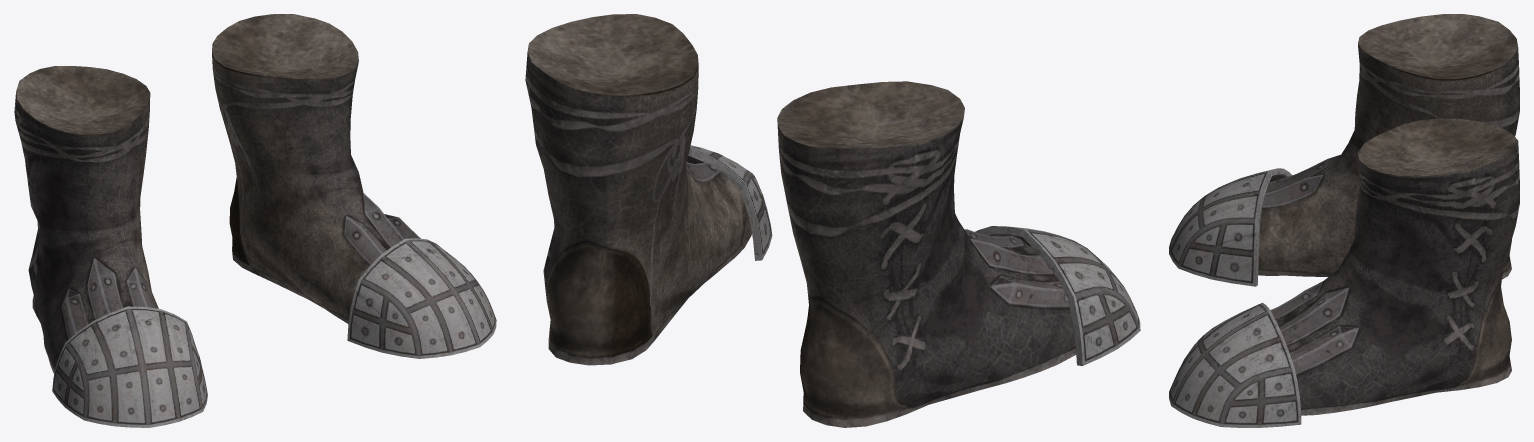
The model's file is sk_dwarf_iron_boots_med_b1.fbx.
The picture shows the model from 3 angles, left to right: view 1: azimuth 30°, elevation 25°; view 2: azimuth 150°, elevation 25°; view 3: azimuth 270°, elevation 25°; orthographic projection. The views are drawn at different scales.
Visible parts, largest first — view 1: sk_dwarf_iron_boots_med_b1; view 2: sk_dwarf_iron_boots_med_b1; view 3: sk_dwarf_iron_boots_med_b1.
Part boxes in pixels (x1,y1,x2,y2): sk_dwarf_iron_boots_med_b1: (14, 14, 496, 427); sk_dwarf_iron_boots_med_b1: (525, 14, 1140, 427); sk_dwarf_iron_boots_med_b1: (1169, 14, 1519, 427).
Bounding box in the file's own units: 0.5738 × 0.4071 × 0.2997.
Materials: 1 (1 with a texture image).
